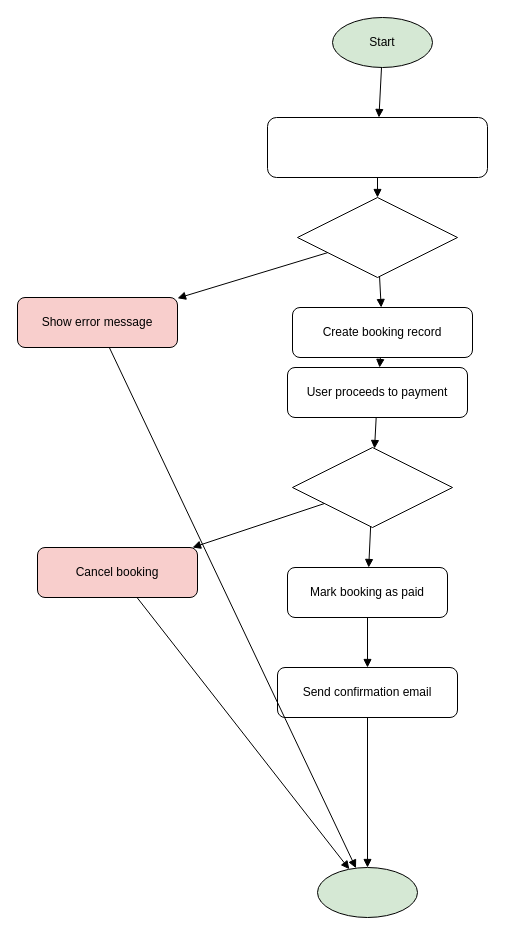
The diagram is 505 pixels wide and 935 high, and some of its shapes have lost their labels. Each missing label, with the centre of its shape:
"End" belongs at point (367, 892).
"Payment successful?" belongs at point (372, 487).
"System checks availability" belongs at point (377, 237).
"User selects property and dates" belongs at point (377, 147).
